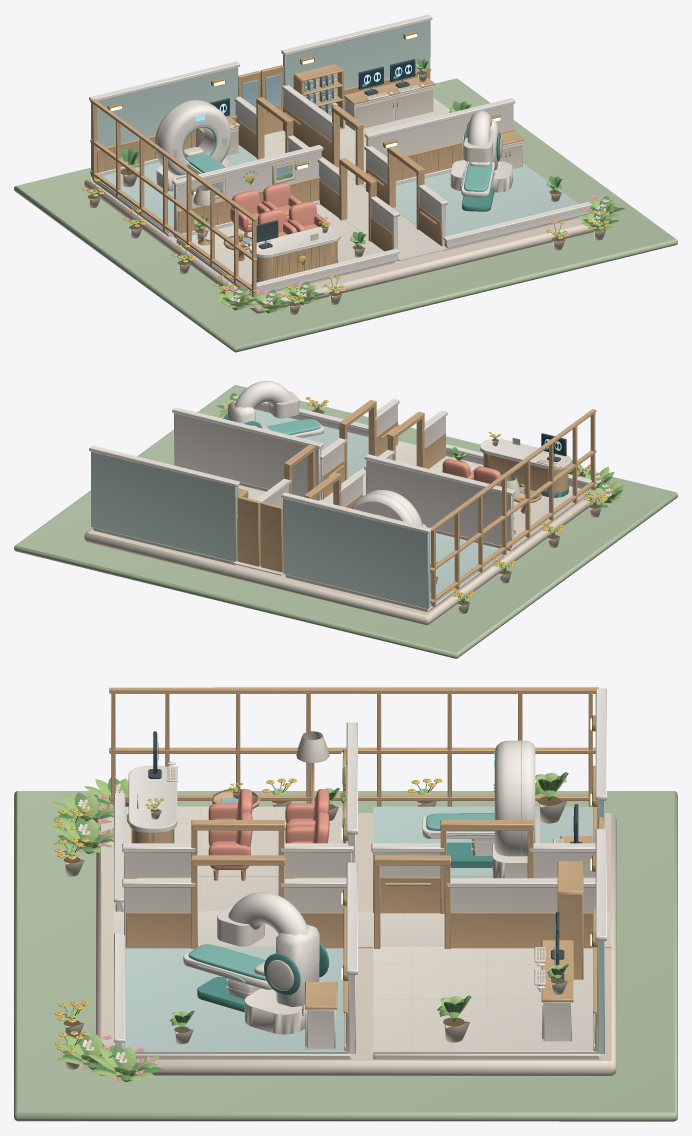
File: hospital-interior.glb
The picture shows the model from 3 angles, top to bottom: view 1: azimuth 30°, elevation 25°; view 2: azimuth 150°, elevation 25°; view 3: azimuth 270°, elevation 25°; orthographic projection. The views are drawn at different scales.
Visible parts, largest first — view 1: hospital-interior, TreatmentHead; view 2: hospital-interior, TreatmentHead; view 3: hospital-interior, TreatmentHead.
Part boxes in pixels (x1,y1,x2,y2): hospital-interior: (14, 14, 677, 352); TreatmentHead: (463, 110, 492, 162); hospital-interior: (14, 385, 677, 658); TreatmentHead: (234, 381, 299, 418); hospital-interior: (14, 687, 677, 1121); TreatmentHead: (217, 892, 308, 946).
Size of the model in its own units: 18.5 by 3.95 by 16.
Materials: 28 (3 with a texture image).
